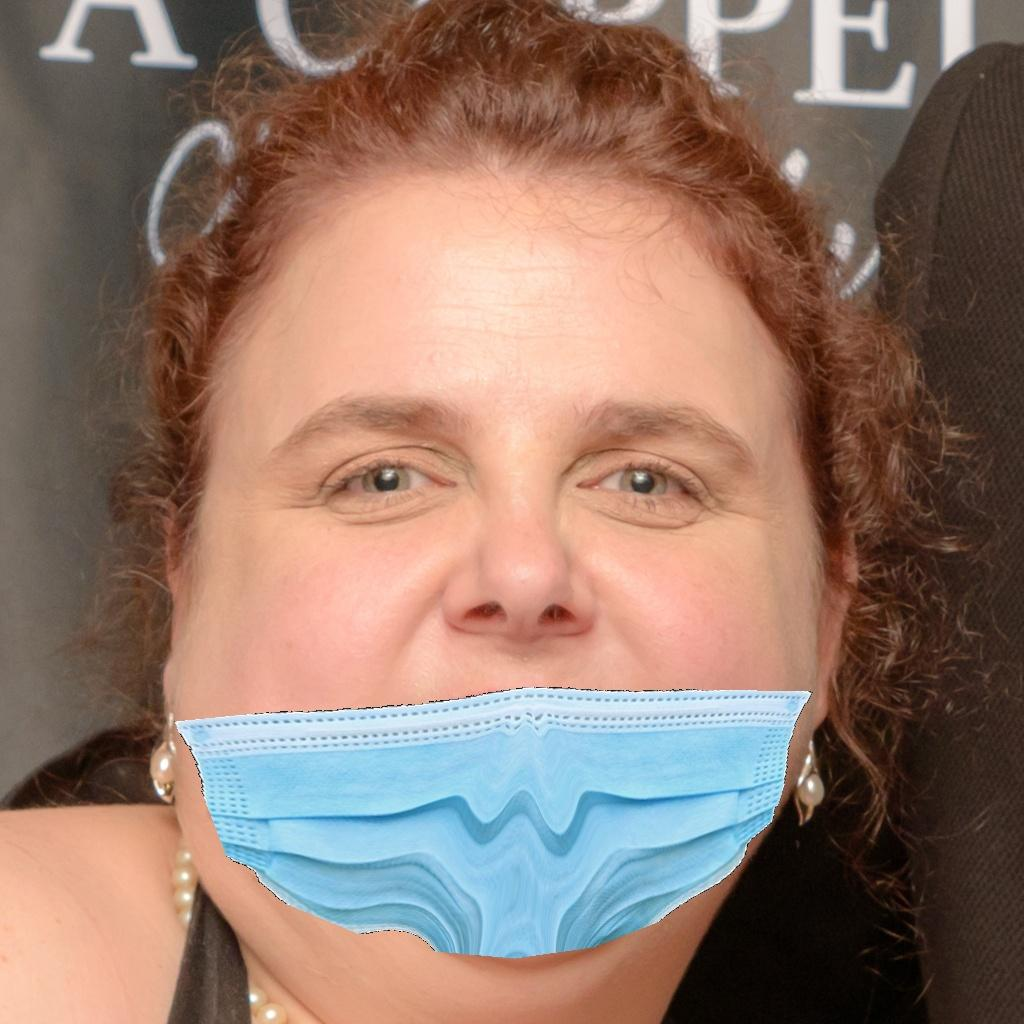Máscara Incorreta: (223, 339, 775, 953)
